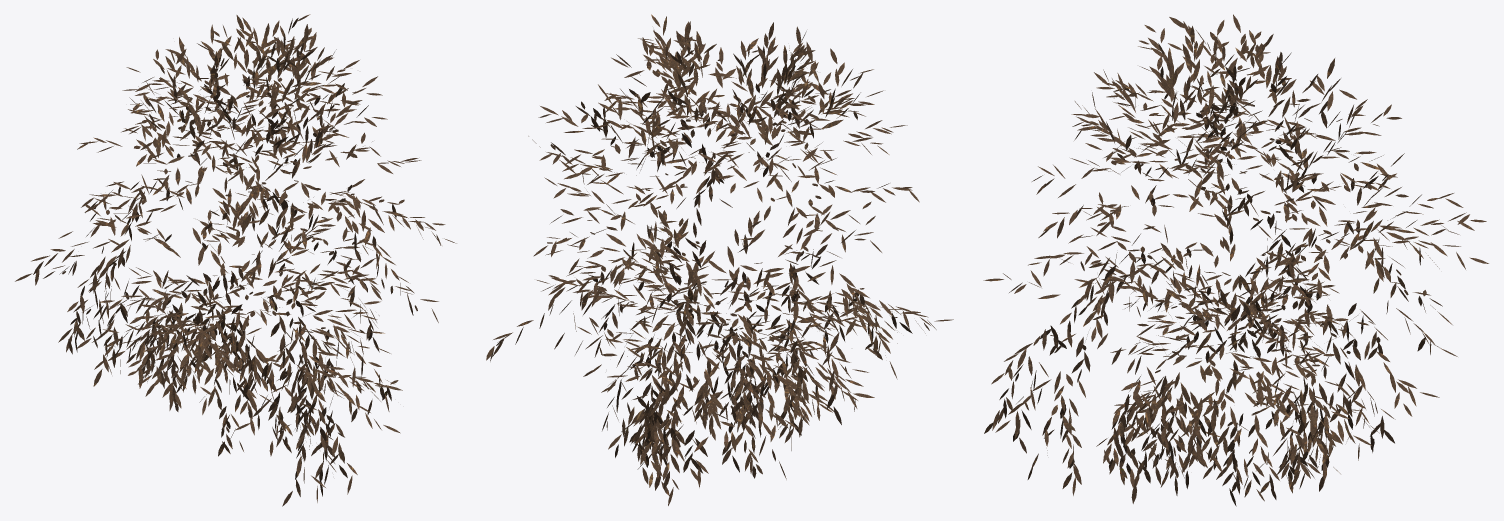
File: cali.fbx
3 renders of one model, left to right at view 1: azimuth 30°, elevation 25°; view 2: azimuth 150°, elevation 25°; view 3: azimuth 270°, elevation 25°, orthographic. The views are drawn at different scales.
Visible parts, largest first — view 1: leaves.025; view 2: leaves.025; view 3: leaves.025.
Boxes of the visible parts, x1,y1,x2,y2 form: leaves.025: (15, 14, 456, 506); leaves.025: (486, 14, 953, 505); leaves.025: (983, 14, 1488, 506).
Bounding box in the file's own units: 468 × 515 × 525.
